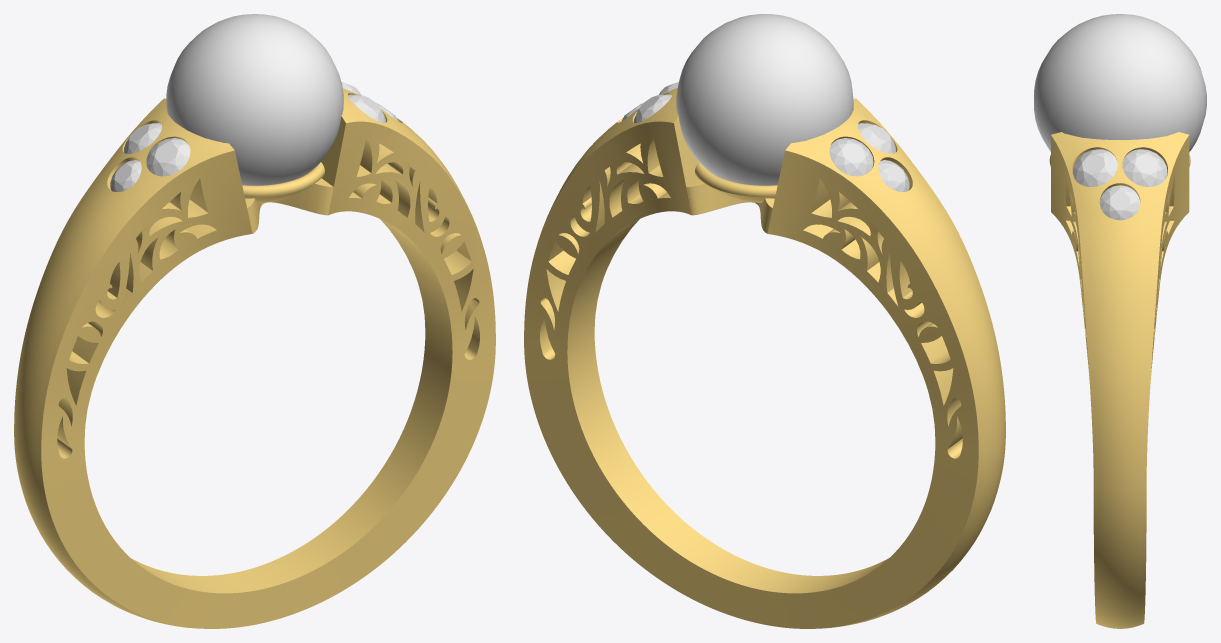
File: DJ sarah cluster YG.glb
The picture shows the model from 3 angles, left to right: view 1: azimuth 30°, elevation 25°; view 2: azimuth 150°, elevation 25°; view 3: azimuth 270°, elevation 25°; orthographic projection. The views are drawn at different scales.
Parts seen in each view (by area): view 1: v2 YG for 3d model, DJ pearl for 3d model, v2 dia for 3d model.005, v2 dia for 3d model.004, v2 dia for 3d model.003; view 2: v2 YG for 3d model, DJ pearl for 3d model, v2 dia for 3d model.004, v2 dia for 3d model.005, v2 dia for 3d model.003; view 3: v2 YG for 3d model, DJ pearl for 3d model, v2 dia for 3d model.001, v2 dia for 3d model.002, v2 dia for 3d model.
Part boxes in pixels (bbox=[...]): v2 YG for 3d model: bbox=[14, 88, 495, 628]; DJ pearl for 3d model: bbox=[166, 14, 343, 185]; v2 dia for 3d model.005: bbox=[146, 138, 190, 176]; v2 dia for 3d model.004: bbox=[124, 123, 161, 153]; v2 dia for 3d model.003: bbox=[110, 160, 141, 191]; v2 YG for 3d model: bbox=[524, 88, 1005, 628]; DJ pearl for 3d model: bbox=[676, 14, 853, 185]; v2 dia for 3d model.004: bbox=[829, 138, 873, 176]; v2 dia for 3d model.005: bbox=[858, 123, 895, 153]; v2 dia for 3d model.003: bbox=[878, 160, 909, 191]; v2 YG for 3d model: bbox=[1049, 132, 1190, 628]; DJ pearl for 3d model: bbox=[1034, 14, 1206, 151]; v2 dia for 3d model.001: bbox=[1122, 149, 1167, 186]; v2 dia for 3d model.002: bbox=[1073, 149, 1117, 186]; v2 dia for 3d model: bbox=[1100, 185, 1140, 220].
Bounding box in the file's own units: 22.76 × 27.8 × 7.5.
